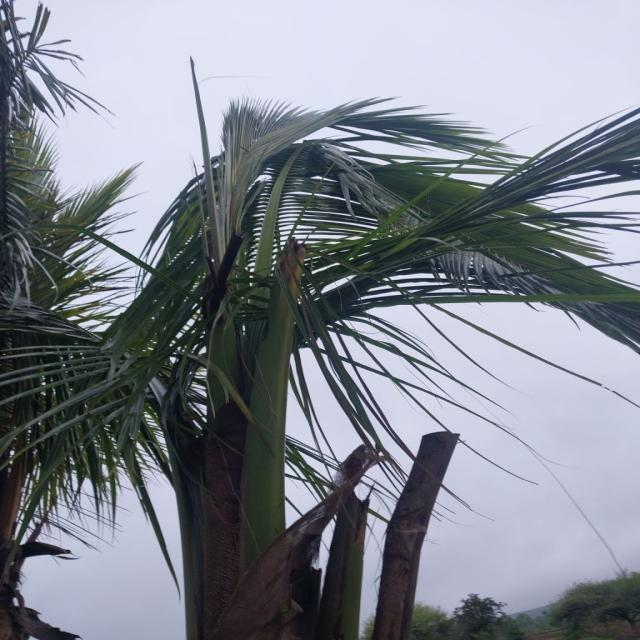bud root dropping: (3, 99, 638, 639)
